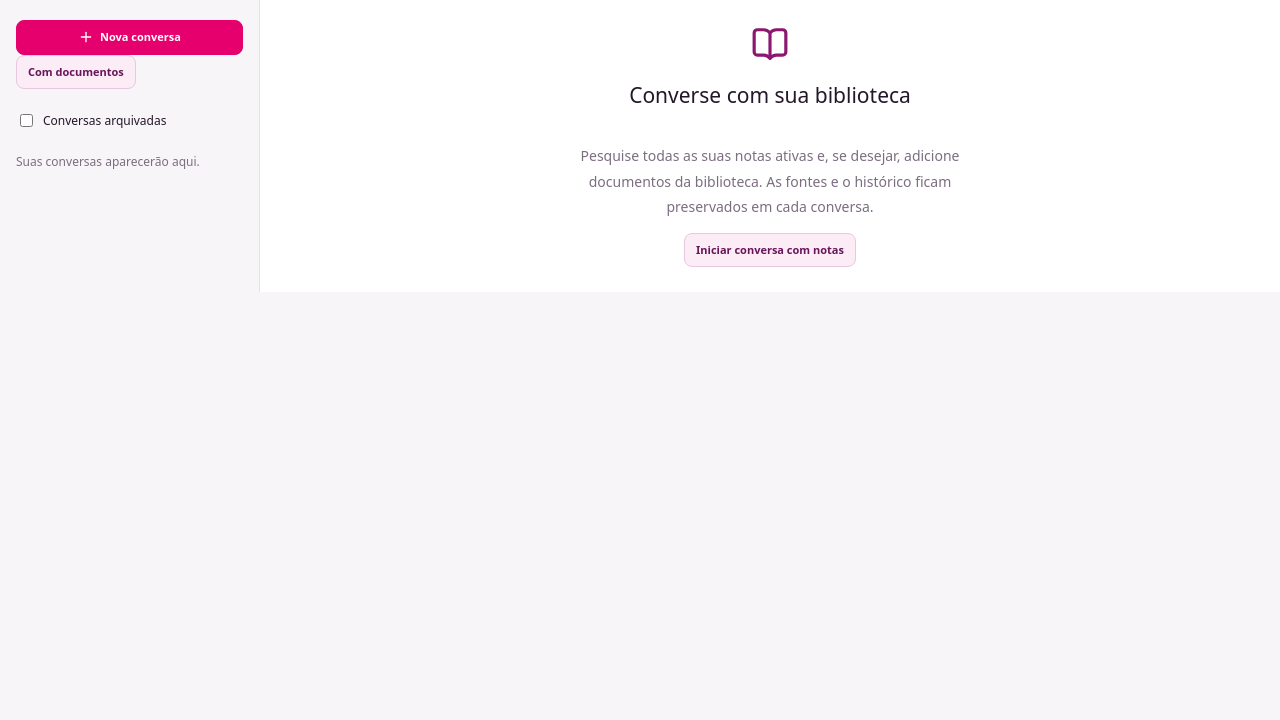
Test: conversational research UI › adds optional documents in one step without confirming notes or sending an AI message
Click the button "Com documentos" at (76,72), box [16, 54, 136, 89]
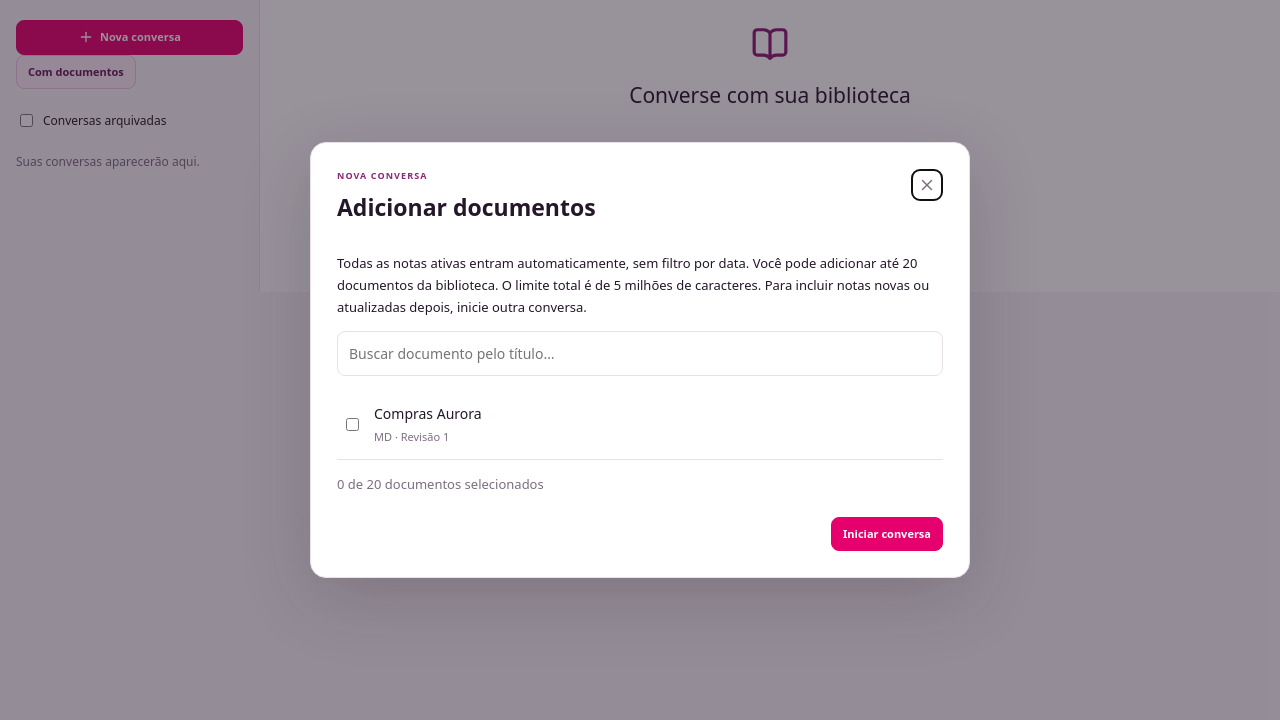
Click the checkbox labelled "Compras Aurora MD · Revisão 1" at (352,424), box [346, 418, 359, 431]
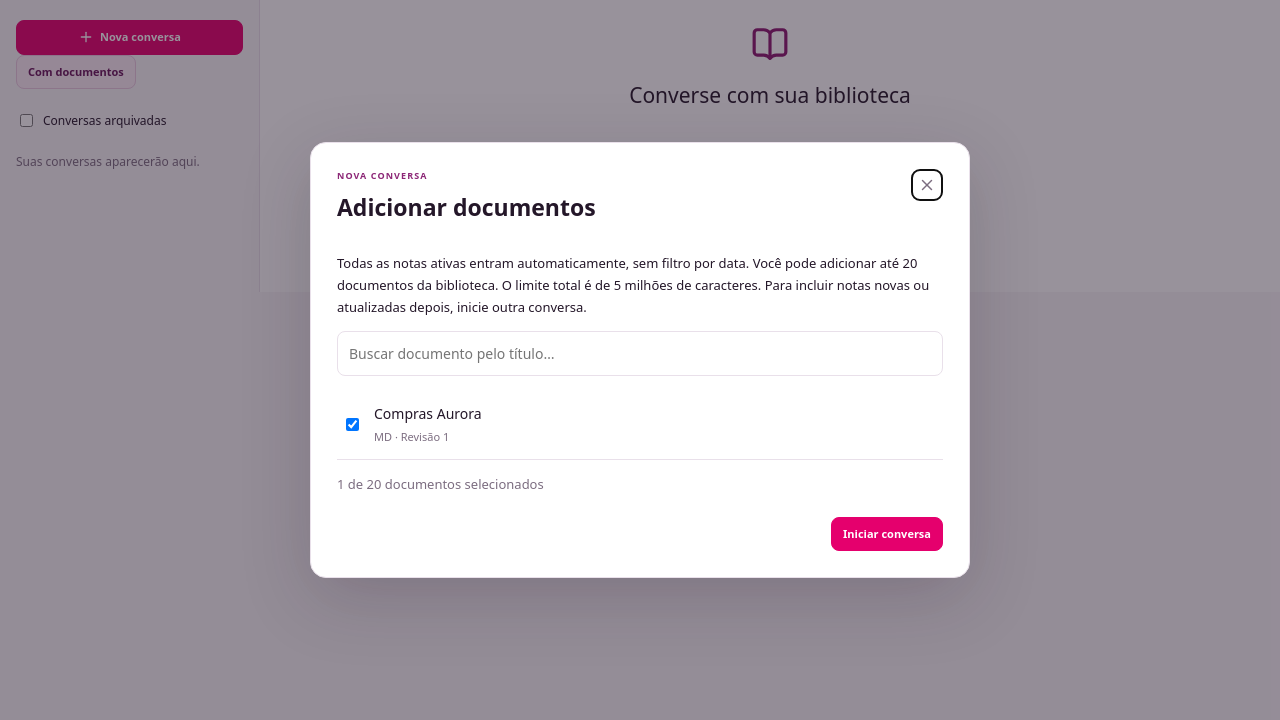
Click the button "Iniciar conversa" at (887,534), box [831, 517, 943, 551]
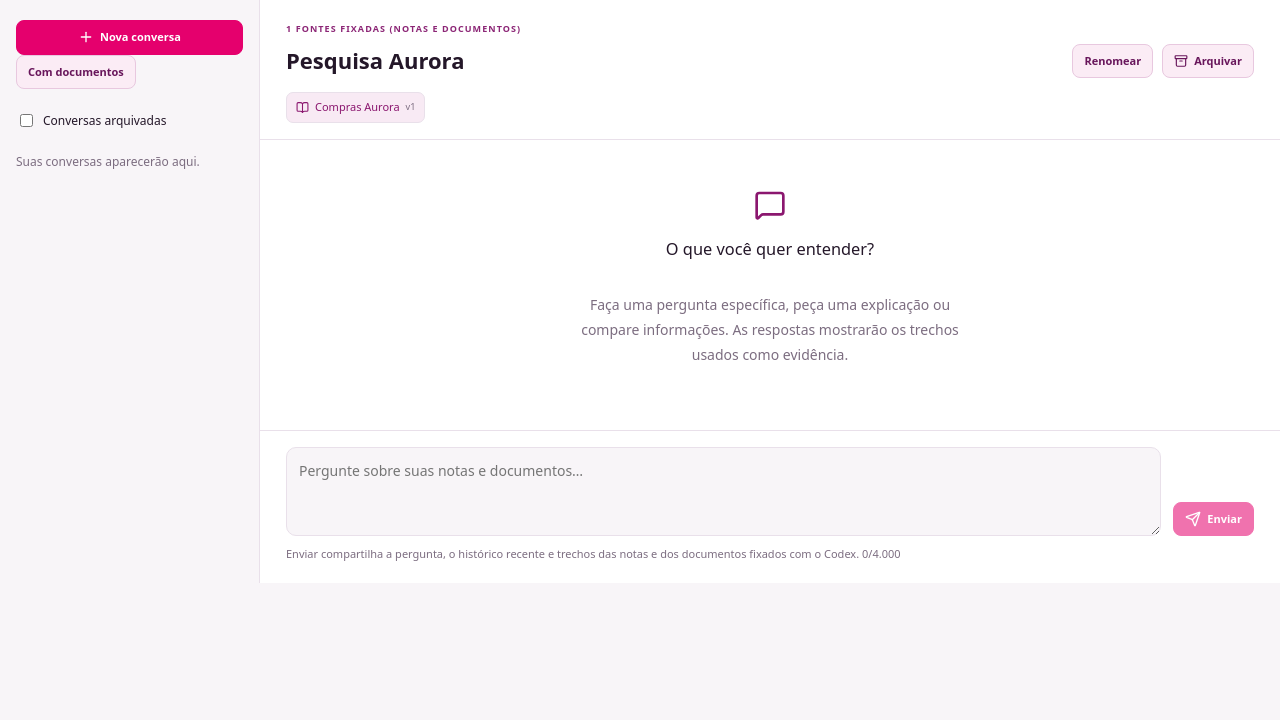
Now the text box named "Pergunta" is shown, box [286, 447, 1161, 536]
